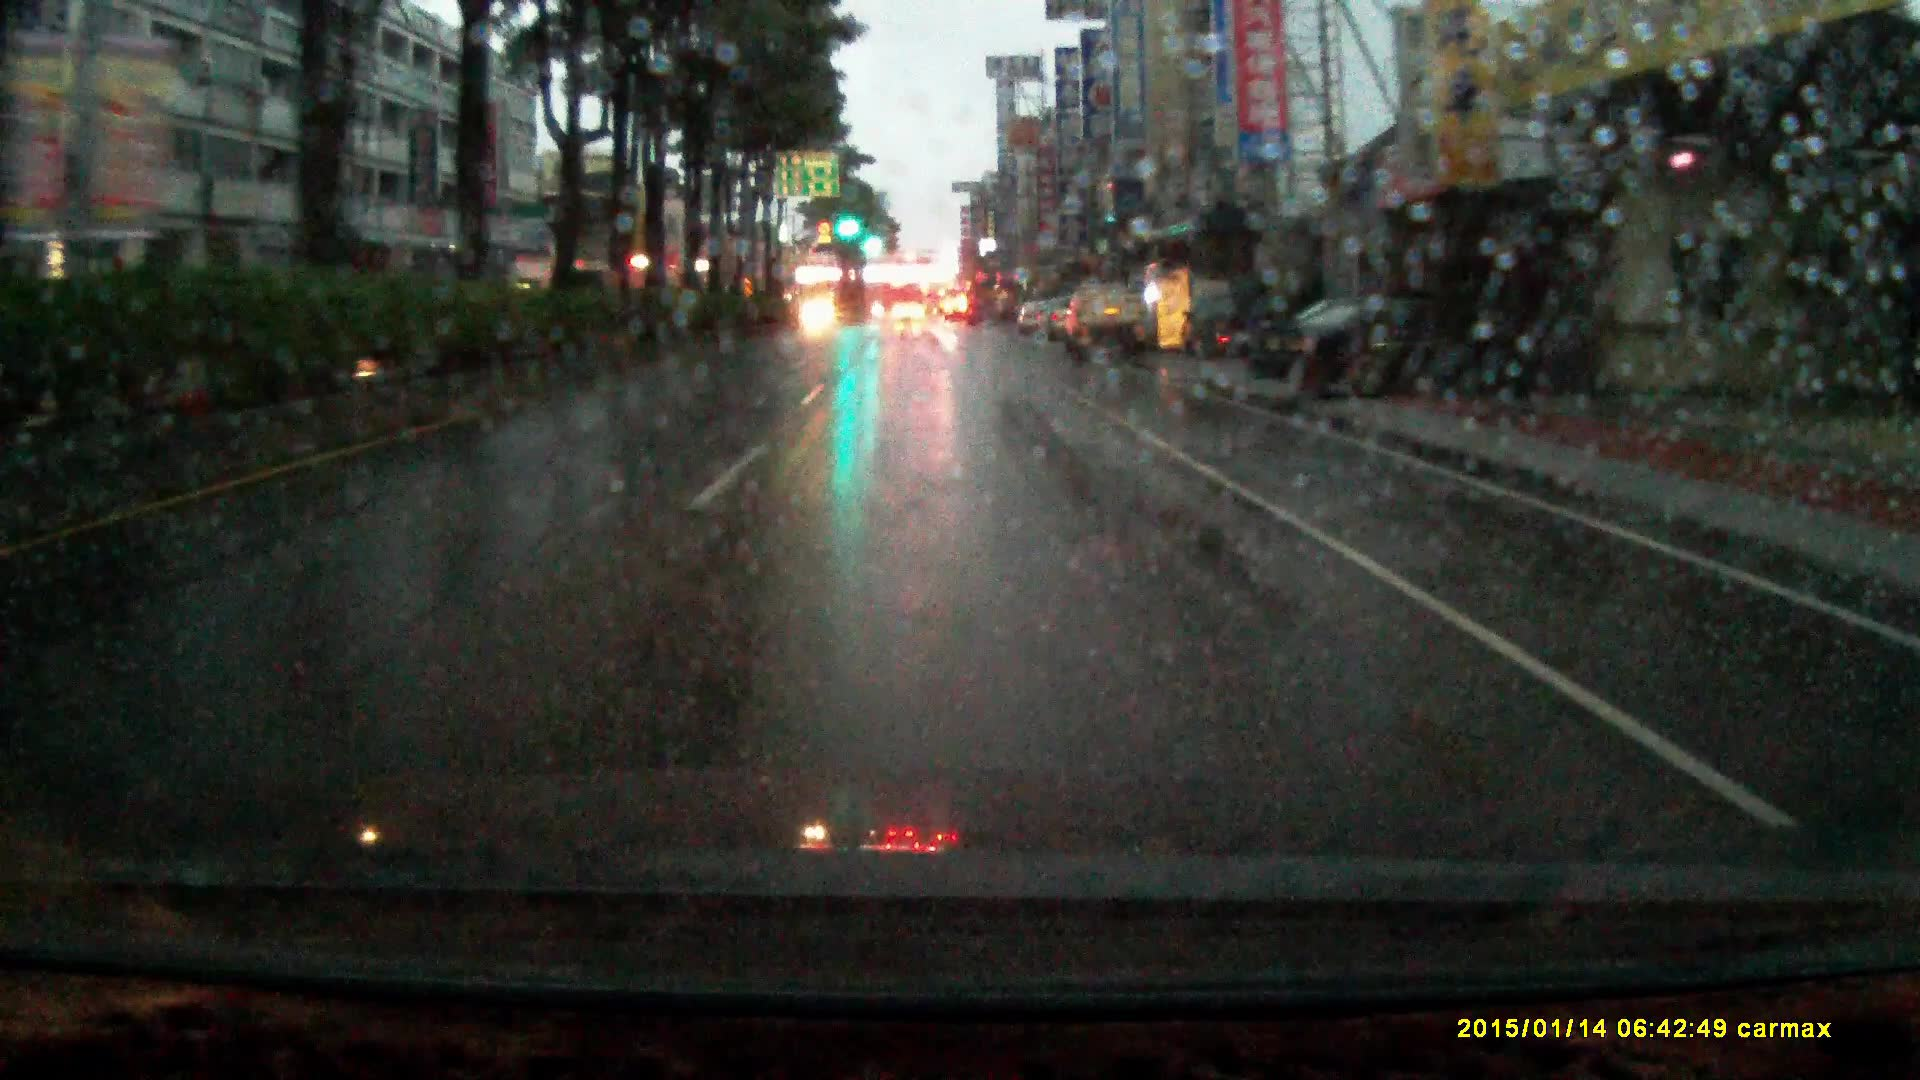vehicle: (1241, 298, 1582, 393), (1065, 280, 1145, 361), (1179, 295, 1270, 363), (798, 295, 840, 335), (891, 299, 927, 323), (924, 282, 945, 318)
